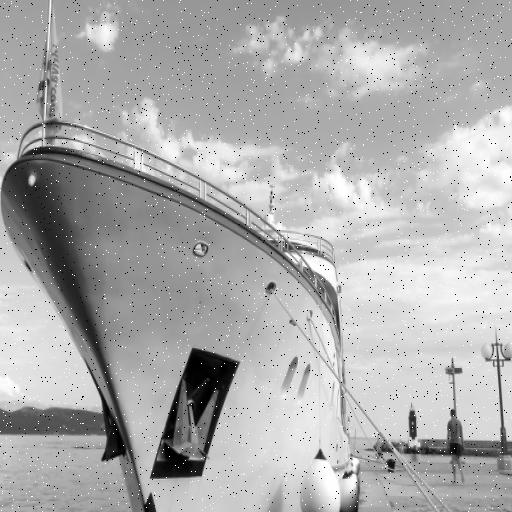cruises: (1, 104, 366, 512)
